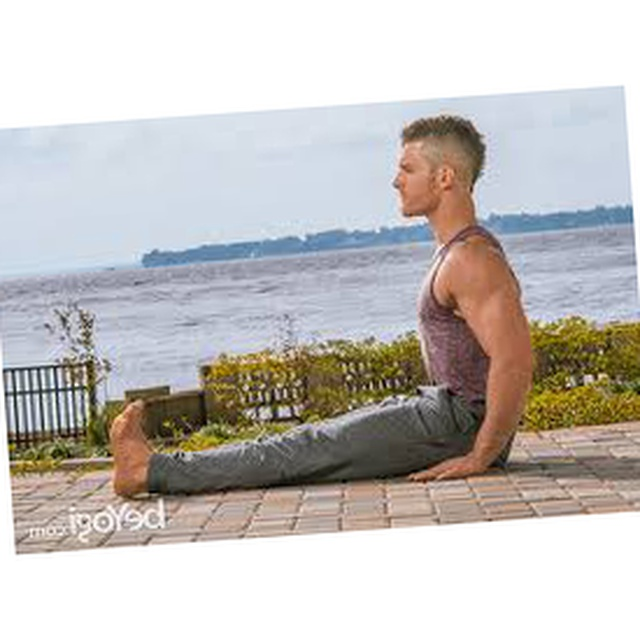Staff_Pose: (109, 113, 537, 498)
